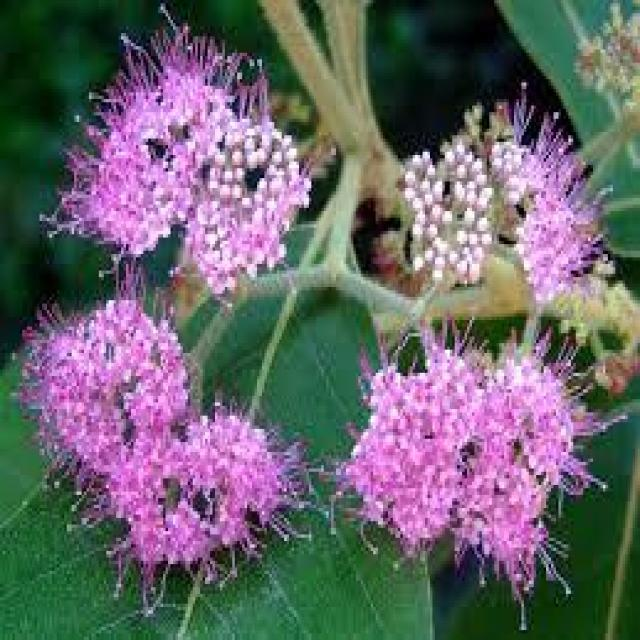organic waste: (34, 320, 306, 594), (44, 39, 309, 314), (346, 328, 598, 609), (383, 102, 608, 307)
